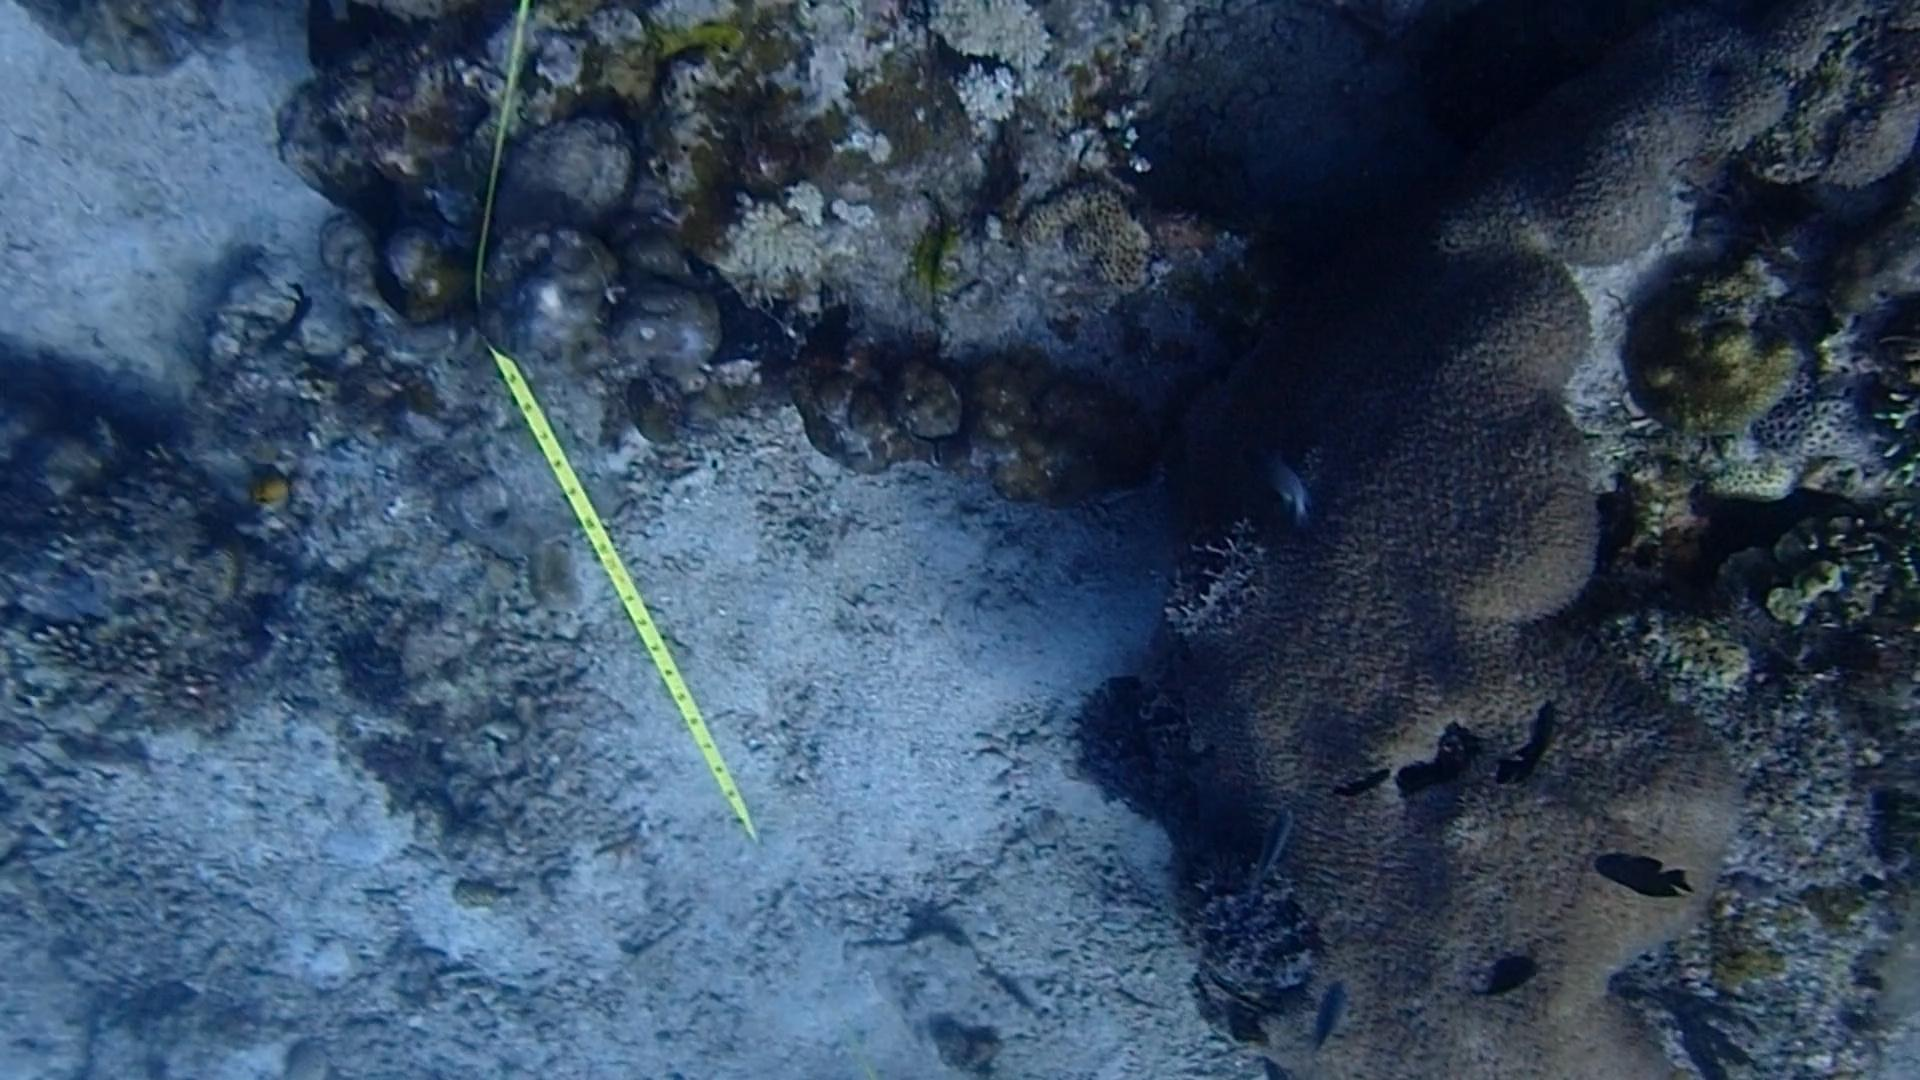Dark Fish: (1573, 836, 1716, 914), (1478, 692, 1580, 785), (257, 274, 335, 368), (1456, 944, 1555, 1005), (365, 244, 426, 332), (1331, 753, 1390, 808)
Light Fish: (1251, 446, 1338, 541), (1232, 804, 1307, 910), (1303, 975, 1369, 1058)
